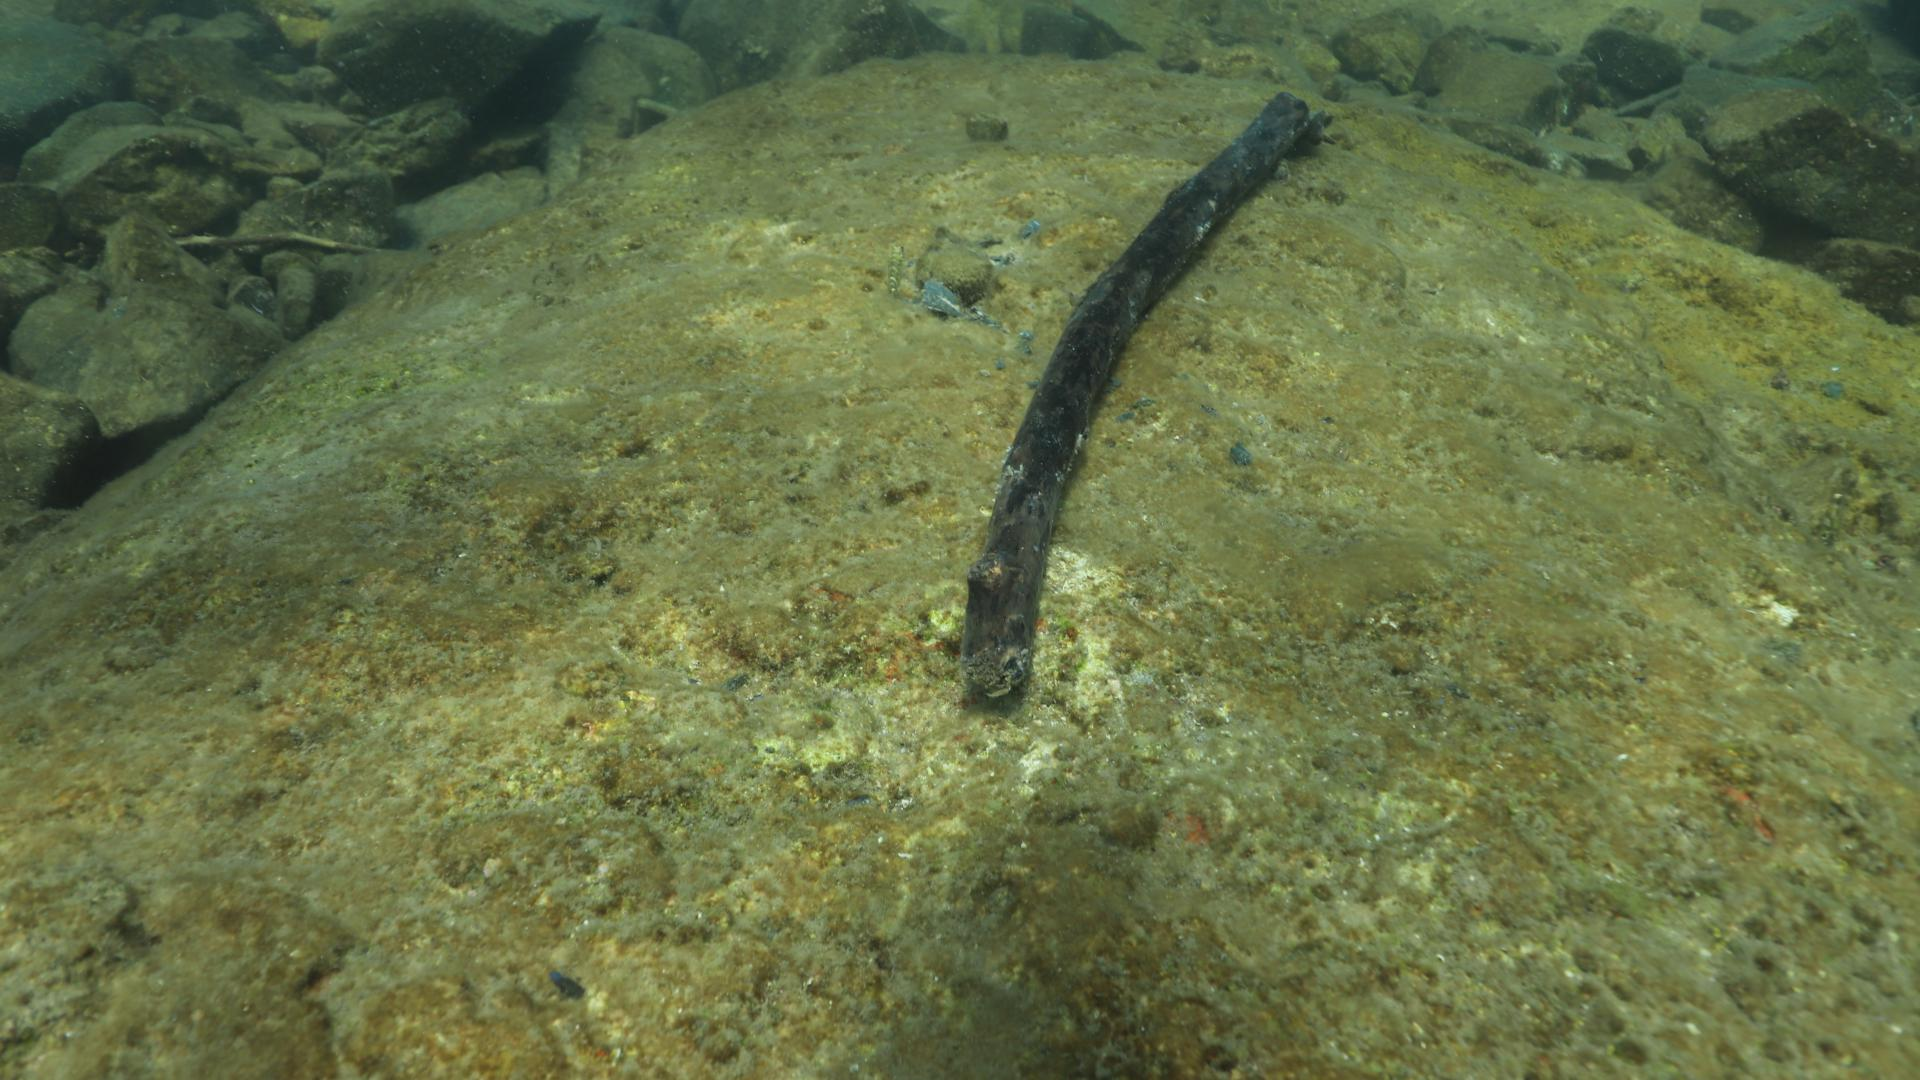wood: (960, 88, 1332, 699)
